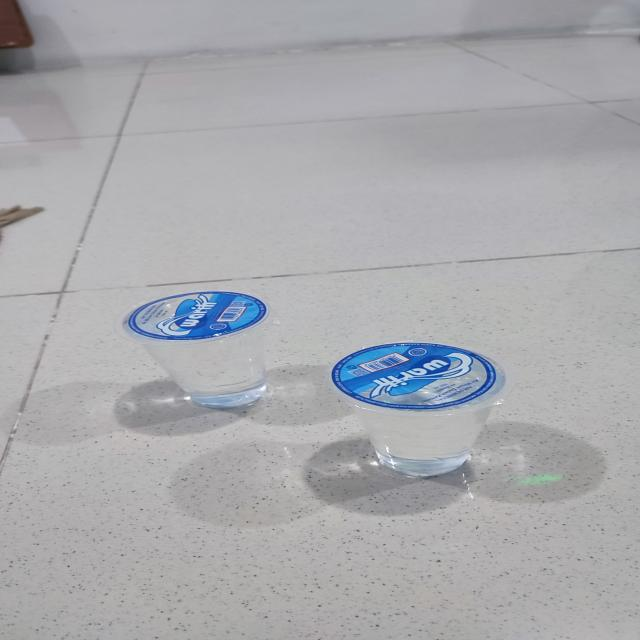air gelas: (321, 343, 519, 482), (126, 292, 299, 412)
